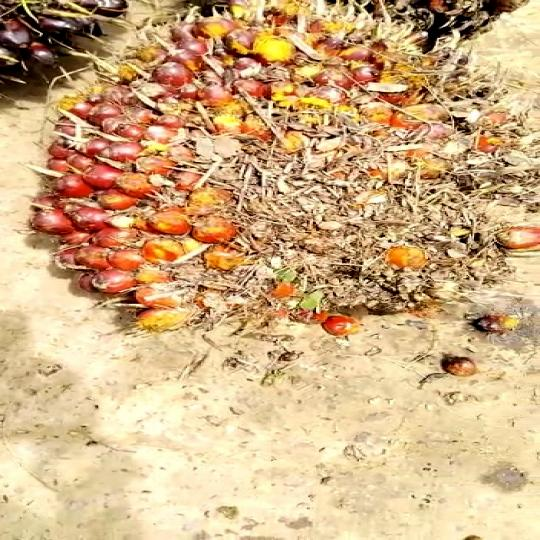masak: (41, 0, 522, 358)
